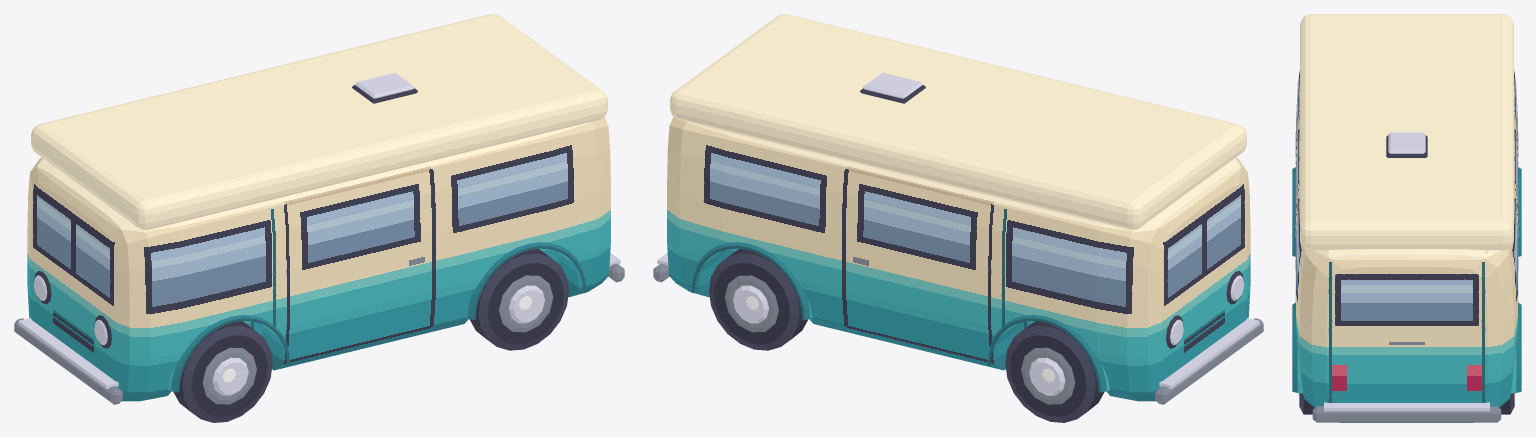
3 views of the same model, side by side, from view 1: azimuth 30°, elevation 25°; view 2: azimuth 150°, elevation 25°; view 3: azimuth 270°, elevation 25° (orthographic). The views are drawn at different scales.
Parts seen in each view (by area): view 1: Body_static, Wheel_FL_tire_hub, Wheel_RL_tire_hub; view 2: Body_static, Wheel_FR_tire_hub, Wheel_RR_tire_hub; view 3: Body_static.
Part boxes in pixels (x1,y1,x2,y2): Body_static: (14, 14, 624, 404); Wheel_FL_tire_hub: (173, 321, 272, 422); Wheel_RL_tire_hub: (469, 249, 568, 350); Body_static: (653, 14, 1263, 404); Wheel_FR_tire_hub: (1005, 321, 1104, 422); Wheel_RR_tire_hub: (709, 249, 808, 350); Body_static: (1292, 14, 1521, 422).
Size of the model in its own units: 88.7 by 40.56 by 36.52.
1 material, 1 textured.
